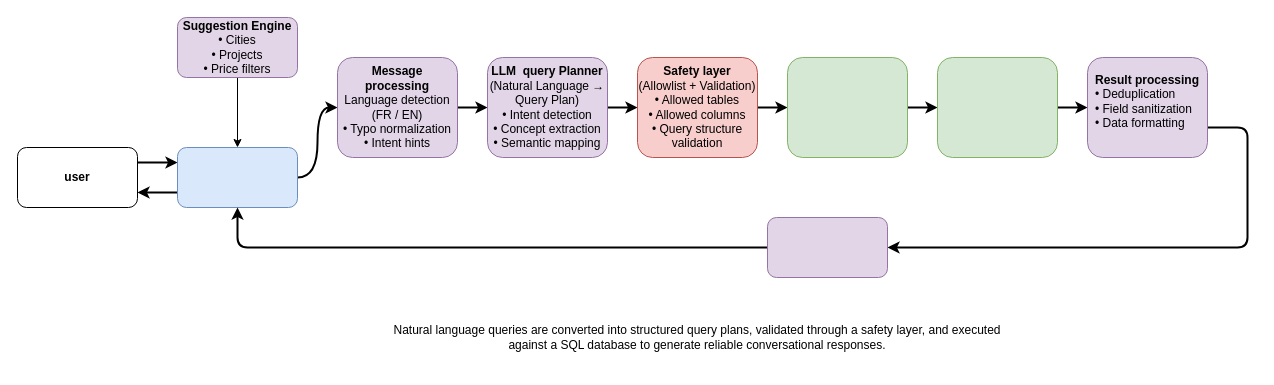
The diagram is 1274 pixels wide and 385 high, and some of its shapes have lost their labels. Here are the shapes that lost their labels. From the top down, the centre of each, then its label:
At point 847,107: "SQL query compiler (Parameterized Queries)".
At point 997,107: "SQL SERVER".
At point 237,177: "Chat interface (Web App + Suggestion Chips)".
At point 827,247: "LLM response generator Natural language answer)".
